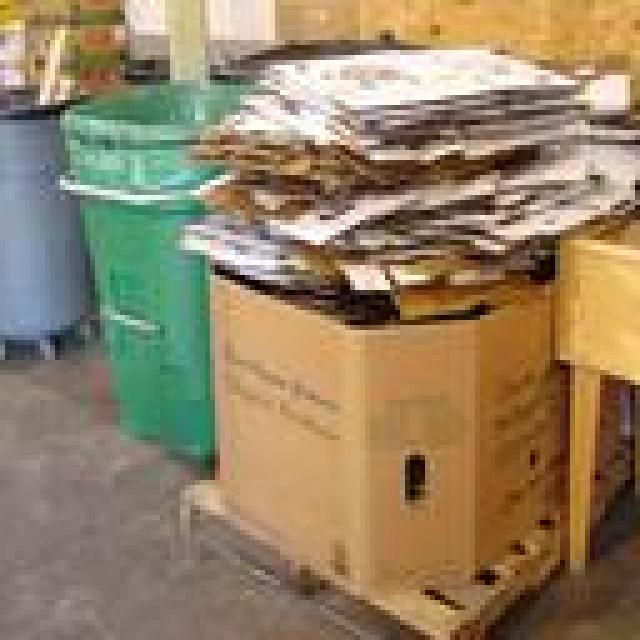cardboard: (205, 260, 560, 600), (180, 40, 635, 295), (190, 165, 630, 250), (215, 45, 580, 140), (195, 120, 630, 190)
